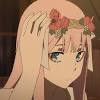zeroTwo: (13, 1, 96, 89)
